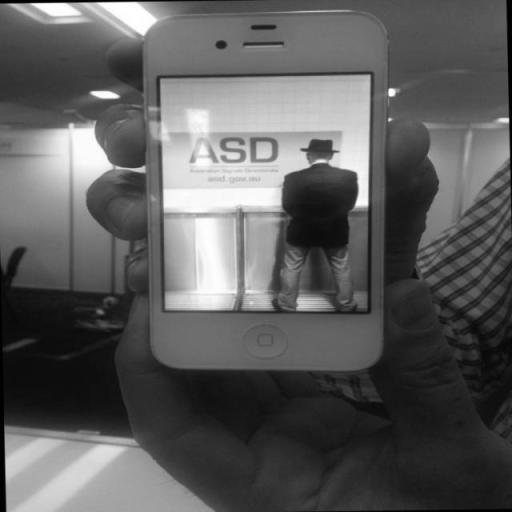phone: (140, 7, 388, 379)
